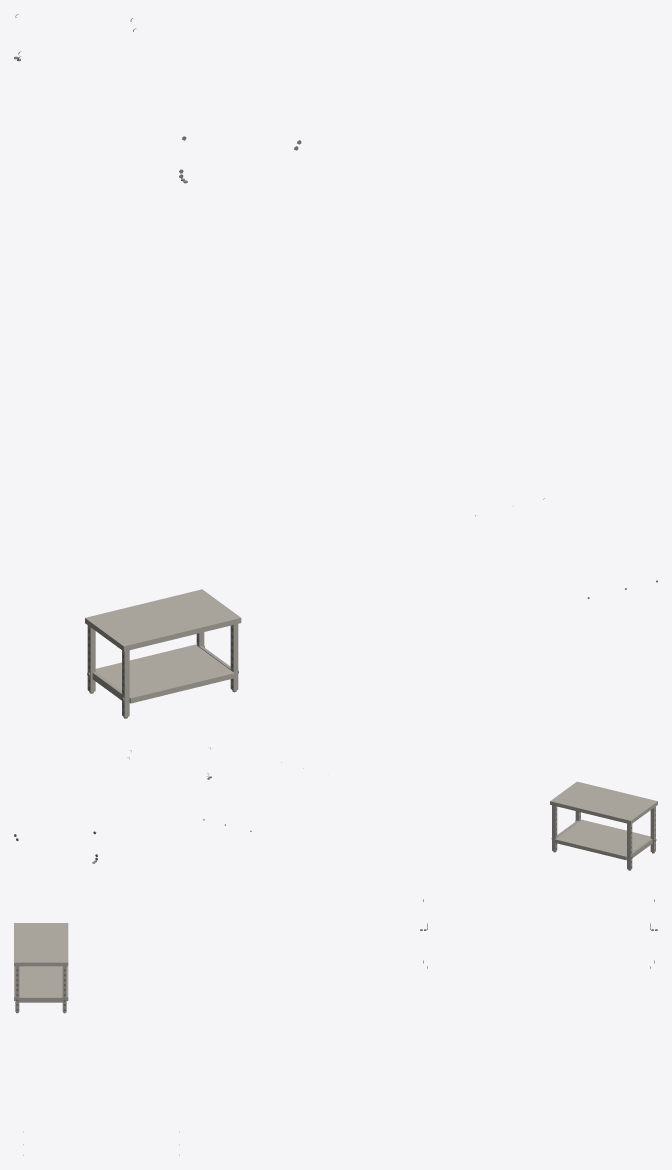
The model's file is kd_stage_135ded_4_68_bounded.glb.
3 views of the same model, one above another, from view 1: azimuth 30°, elevation 25°; view 2: azimuth 150°, elevation 25°; view 3: azimuth 270°, elevation 25° (orthographic). The views are drawn at different scales.
Visible parts, largest first — view 1: kd_stage_135ded_4_68_bounded; view 2: kd_stage_135ded_4_68_bounded; view 3: kd_stage_135ded_4_68_bounded.
Boxes of the visible parts, left/top/right/bottom form: kd_stage_135ded_4_68_bounded: left=14, top=14, right=657, bottom=718; kd_stage_135ded_4_68_bounded: left=14, top=747, right=657, bottom=870; kd_stage_135ded_4_68_bounded: left=14, top=899, right=657, bottom=1155.
Size of the model in its own units: 5.48 by 2.73 by 8.15.
Materials: 1 (1 with a texture image).
